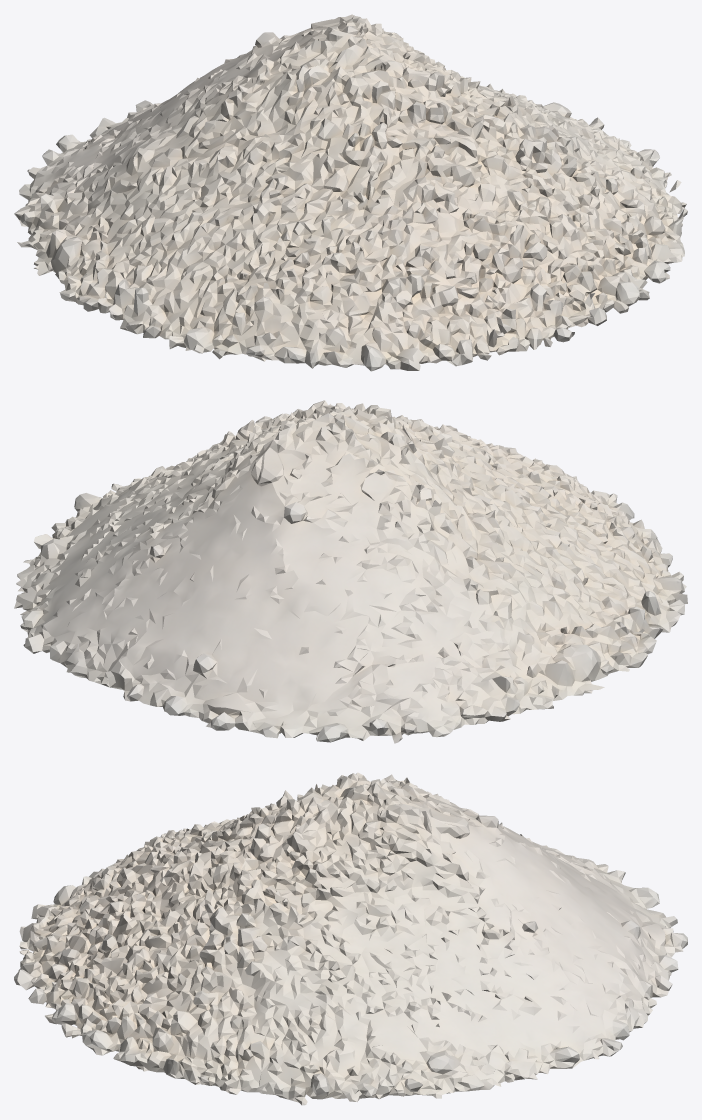
Rendered from lod_basic_pbr.fbx.
3 views of the same model, one above another, from view 1: azimuth 30°, elevation 25°; view 2: azimuth 150°, elevation 25°; view 3: azimuth 270°, elevation 25° (orthographic). The views are drawn at different scales.
Parts seen in each view (by area): view 1: model_LOD0; view 2: model_LOD0; view 3: model_LOD0.
Part boxes in pixels (box(x1,y1,x2,y2)): model_LOD0: box(14, 14, 687, 371); model_LOD0: box(14, 400, 687, 743); model_LOD0: box(14, 772, 687, 1105).
Size of what is drawn, in the model's own units: 186 by 58.44 by 190.
1 material, 1 textured.
